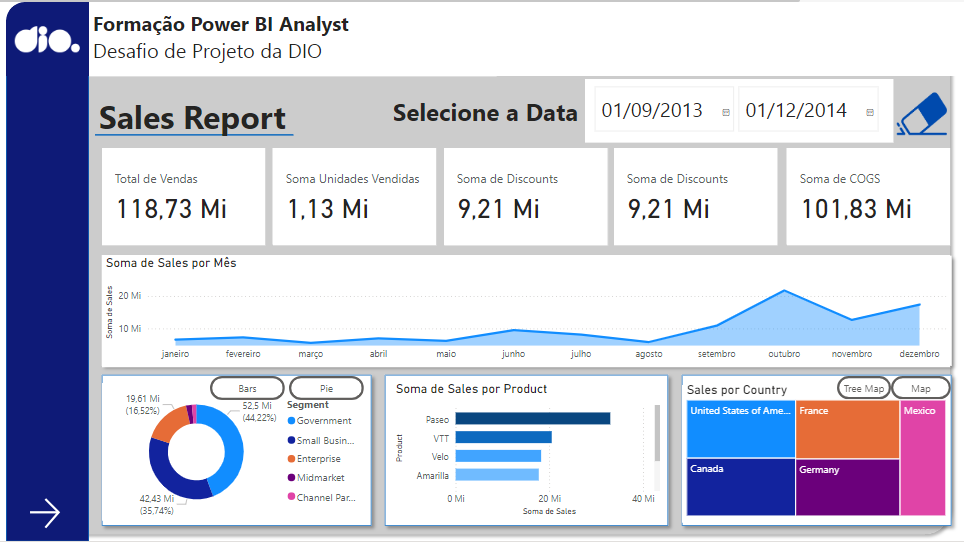

What the dashboard file says about the page in this screenshot:
{"tool":"powerbi","page":{"name":"Página 1","canvas":[1280,720],"ordinal":0},"visuals":[{"type":"shape","box":[0,0,1270,720],"z":0},{"type":"image","title":"Apagar","box":[1185,111.6,76.7,76.7],"z":0,"group":"g2"},{"type":"shape","box":[128.3,195.1,217.9,129.5],"z":0,"group":"g1"},{"type":"shape","box":[0,0,110.9,720.6],"z":1000},{"type":"slicer","fields":{"Values":["financials.Date"]},"box":[773.4,103.3,411.7,85],"z":1000,"group":"g2"},{"type":"shape","box":[355.9,195,217.4,129.3],"z":1000,"group":"g1"},{"type":"shape","box":[0,0,110.9,99.1],"z":2000},{"type":"textbox","box":[511.7,120,300,53.3],"z":2000,"group":"g2"},{"type":"shape","box":[586,195,218,130],"z":2000,"group":"g1"},{"type":"image","box":[6.7,1.7,97.4,97.4],"z":3000},{"type":"shape","box":[812.9,195,218.6,129.3],"z":3000,"group":"g1"},{"type":"shape","box":[110.9,0,1169.1,99.1],"z":4000},{"type":"shape","box":[1042.6,195,218.6,129.3],"z":4000,"group":"g1"},{"type":"textbox","box":[110.9,5,544.3,94.1],"z":5000},{"type":"group","id":"g1","title":"Grupo 1","box":[128.3,195,1132.9,130],"z":6000},{"type":"shape","box":[118.3,168.3,265,18.3],"z":7000},{"type":"textbox","box":[118.3,118.3,306.7,68.3],"z":8000},{"type":"shape","box":[118.3,330,1153.3,165],"z":9000},{"type":"shape","box":[118.3,488.3,378.3,220],"z":10000},{"type":"shape","box":[496.7,488.3,396.7,220],"z":11000},{"type":"shape","box":[893.3,488.3,378.3,220],"z":12000},{"type":"areaChart","fields":{"Category":["financials.Date.Variation.Hierarquia de datas.Mês"],"Y":["Sum(financials. Sales)"]},"box":[128.3,338.3,1133.3,150],"z":13000},{"type":"cardVisual","fields":{"Data":["Sum(financials. Sales)"]},"box":[128.3,195,218.3,130],"z":14000},{"type":"cardVisual","fields":{"Data":["Sum(financials.Units Sold)"]},"box":[356.7,195,218.3,130],"z":15000},{"type":"cardVisual","fields":{"Data":["Sum(financials.Discounts)"]},"box":[585,195,218.3,130],"z":16000},{"type":"cardVisual","fields":{"Data":["Sum(financials.Discounts)"]},"box":[811.7,195,218.3,130],"z":17000},{"type":"cardVisual","fields":{"Data":["Sum(financials.COGS)"]},"box":[1043.3,195,218.3,130],"z":18000},{"type":"clusteredBarChart","fields":{"Y":["Sum(financials. Sales)"],"Category":["financials.Product"]},"box":[515,506.7,363.3,185],"z":19000},{"type":"clusteredBarChart","title":"Vendas por segmento - bar","fields":{"Y":["Sum(financials. Sales)"],"Category":["financials.Segment"]},"box":[137,509,341,181],"z":19000,"group":"g4"},{"type":"actionButton","box":[1187.2,109.4,80,75],"z":20000},{"type":"map","title":"Country","fields":{"Category":["financials.Country"]},"box":[903,512,358,184],"z":20000,"group":"g3"},{"type":"group","id":"g2","title":"Data","box":[511.7,103.3,750,85],"z":21000},{"type":"actionButton","box":[25,656.7,60,51.7],"z":22000},{"type":"group","id":"g3","title":"Map Botoes","box":[903,500,359.2,196],"z":23000},{"type":"treemap","title":"Sales por Country ","fields":{"Group":["financials.Country"],"Values":["Sum(financials. Sales)"]},"box":[905,508,356,184],"z":23000,"group":"g3"},{"type":"group","id":"g4","title":"Pie - Bars","box":[128,500,358,194],"z":24000},{"type":"donutChart","title":"Pie","fields":{"Y":["Sum(financials. Sales)"],"Category":["financials.Segment"]},"box":[128,510,357,184],"z":24000,"group":"g4"},{"type":"actionButton","title":"Botão - bars","box":[272,500,100,32],"z":25000,"group":"g4"},{"type":"actionButton","title":"Botão - pie","box":[378,500,100,32],"z":26000,"group":"g4"},{"type":"actionButton","title":"Botão - tree","box":[1109.9,500,72.2,31.1],"z":27000,"group":"g3"},{"type":"actionButton","title":"Botão - map","box":[1182.2,500,80,31.1],"z":28000,"group":"g3"}]}

Visuals, with their boxes in screenshot pixels (x1, y1, x2, y2), scaled from the page's 1280x720 canvas onto the 964x542 screenshot:
shape: [0, 0, 956, 541]
"Apagar" image: [892, 84, 950, 142]
shape: [97, 147, 261, 244]
shape: [0, 0, 84, 541]
slicer - financials.Date: [582, 78, 893, 142]
shape: [268, 147, 432, 244]
shape: [0, 0, 84, 75]
textbox: [385, 90, 611, 130]
shape: [441, 147, 606, 245]
image: [5, 1, 78, 75]
shape: [612, 147, 777, 244]
shape: [84, 0, 963, 75]
shape: [785, 147, 950, 244]
textbox: [84, 4, 493, 75]
"Grupo 1" group: [97, 147, 950, 245]
shape: [89, 127, 289, 140]
textbox: [89, 89, 320, 140]
shape: [89, 248, 958, 373]
shape: [89, 368, 374, 533]
shape: [374, 368, 673, 533]
shape: [673, 368, 958, 533]
areaChart - financials.Date.Variation.Hierarquia de datas.Mês x Sum(financials. Sales): [97, 255, 950, 368]
cardVisual - Sum(financials. Sales): [97, 147, 261, 245]
cardVisual - Sum(financials.Units Sold): [269, 147, 433, 245]
cardVisual - Sum(financials.Discounts): [441, 147, 605, 245]
cardVisual - Sum(financials.Discounts): [611, 147, 776, 245]
cardVisual - Sum(financials.COGS): [786, 147, 950, 245]
clusteredBarChart - Sum(financials. Sales) x financials.Product: [388, 381, 661, 521]
"Vendas por segmento - bar" clusteredBarChart: [103, 383, 360, 519]
actionButton: [894, 82, 954, 139]
"Country" map: [680, 385, 950, 524]
"Data" group: [385, 78, 950, 142]
actionButton: [19, 494, 64, 533]
"Map Botoes" group: [680, 376, 951, 524]
"Sales por Country " treemap: [682, 382, 950, 521]
"Pie - Bars" group: [96, 376, 366, 522]
"Pie" donutChart: [96, 384, 365, 522]
"Botão - bars" actionButton: [205, 376, 280, 400]
"Botão - pie" actionButton: [285, 376, 360, 400]
"Botão - tree" actionButton: [836, 376, 890, 400]
"Botão - map" actionButton: [890, 376, 951, 400]
